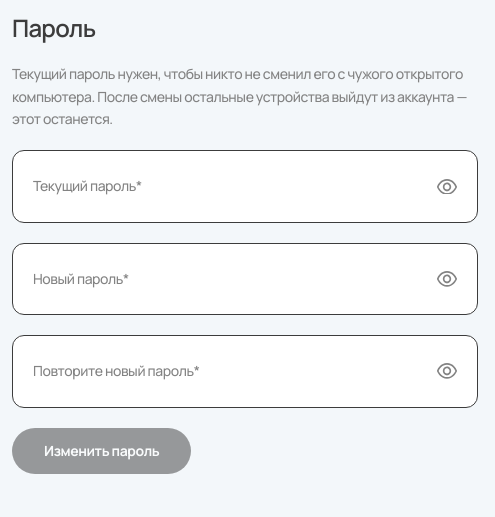
Scenario: смена пароля › говорит про текущий пароль, когда сервер его не принял
The width and height of the screenshot is (495, 517).
In the password field with placeholder "Текущий пароль*": (227, 187) [33, 175, 421, 198], type "неверный"
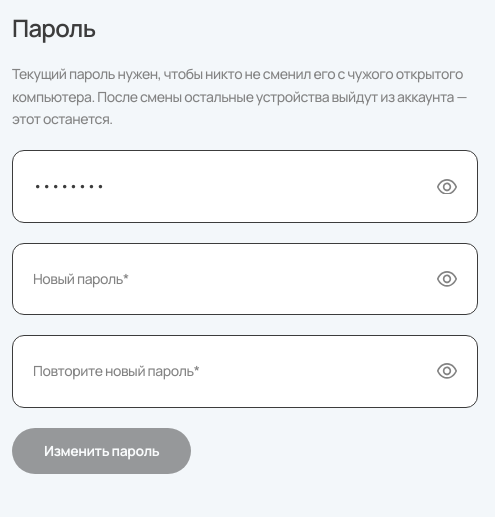
In the password field with placeholder "Новый пароль*": (227, 279) [33, 268, 421, 290], type "новый-пароль"
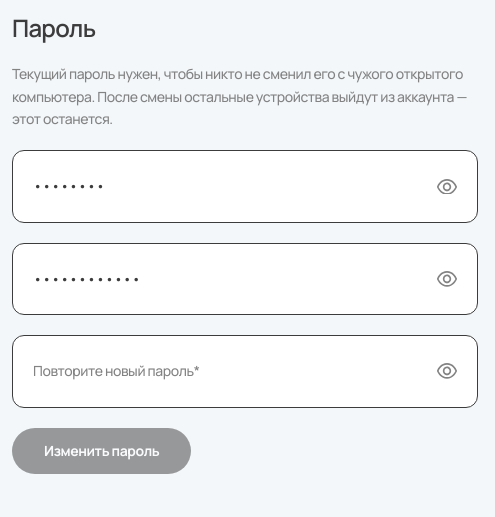
In the password field with placeholder "Повторите новый пароль*": (227, 371) [33, 360, 421, 382], type "новый-пароль"
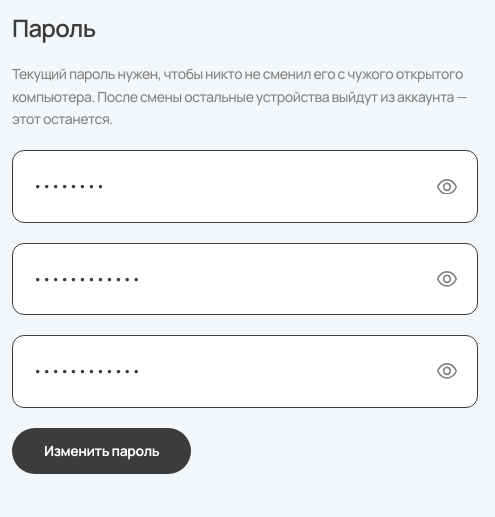
Submit the form
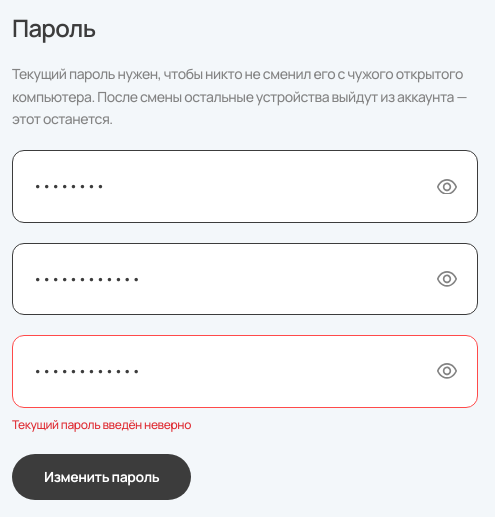
Check: the form shows "Текущий пароль введён неверно", box [12, 416, 191, 432]
